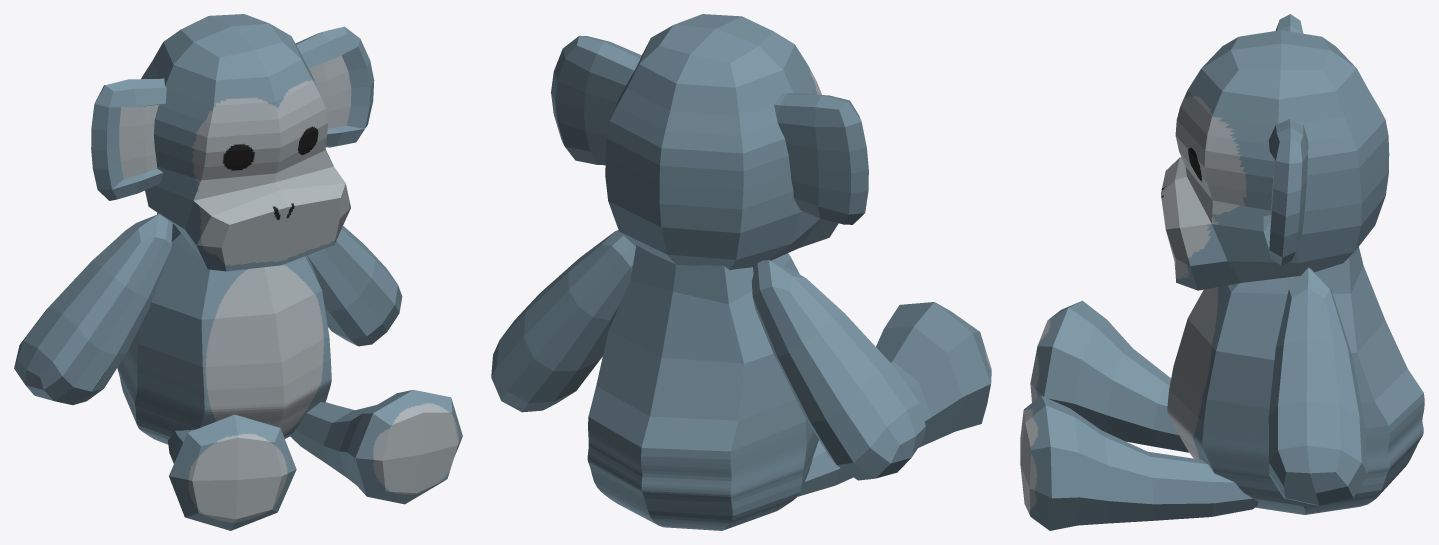
Rendered from monkeyplush.fbx.
3 renders of one model, left to right at view 1: azimuth 30°, elevation 25°; view 2: azimuth 150°, elevation 25°; view 3: azimuth 270°, elevation 25°, orthographic. The views are drawn at different scales.
Visible parts, largest first — view 1: Cube.005, Cube.002, Cube.008, Cube.006, Cube.003, Cube.004, Cube.007; view 2: Cube.002, Cube.005, Cube.008, Cube.006, Cube.007, Cube.004; view 3: Cube.005, Cube.002, Cube.003, Cube.007, Cube.004, Cube.006.
Part boxes in pixels (x1,y1,x2,y2): Cube.005: [141, 14, 350, 271]; Cube.002: [117, 213, 331, 444]; Cube.008: [14, 214, 172, 405]; Cube.006: [91, 26, 374, 200]; Cube.003: [290, 390, 462, 504]; Cube.004: [167, 414, 296, 530]; Cube.007: [307, 226, 402, 346]; Cube.002: [587, 245, 818, 530]; Cube.005: [605, 14, 838, 270]; Cube.008: [751, 260, 925, 480]; Cube.006: [551, 35, 868, 224]; Cube.007: [491, 230, 635, 412]; Cube.004: [797, 302, 991, 496]; Cube.005: [1161, 30, 1389, 290]; Cube.002: [1167, 247, 1424, 514]; Cube.003: [1020, 395, 1258, 530]; Cube.007: [1268, 267, 1367, 505]; Cube.004: [1030, 300, 1189, 452]; Cube.006: [1263, 14, 1308, 265].
Size of the model in its own units: 31.02 by 33.97 by 27.5.
